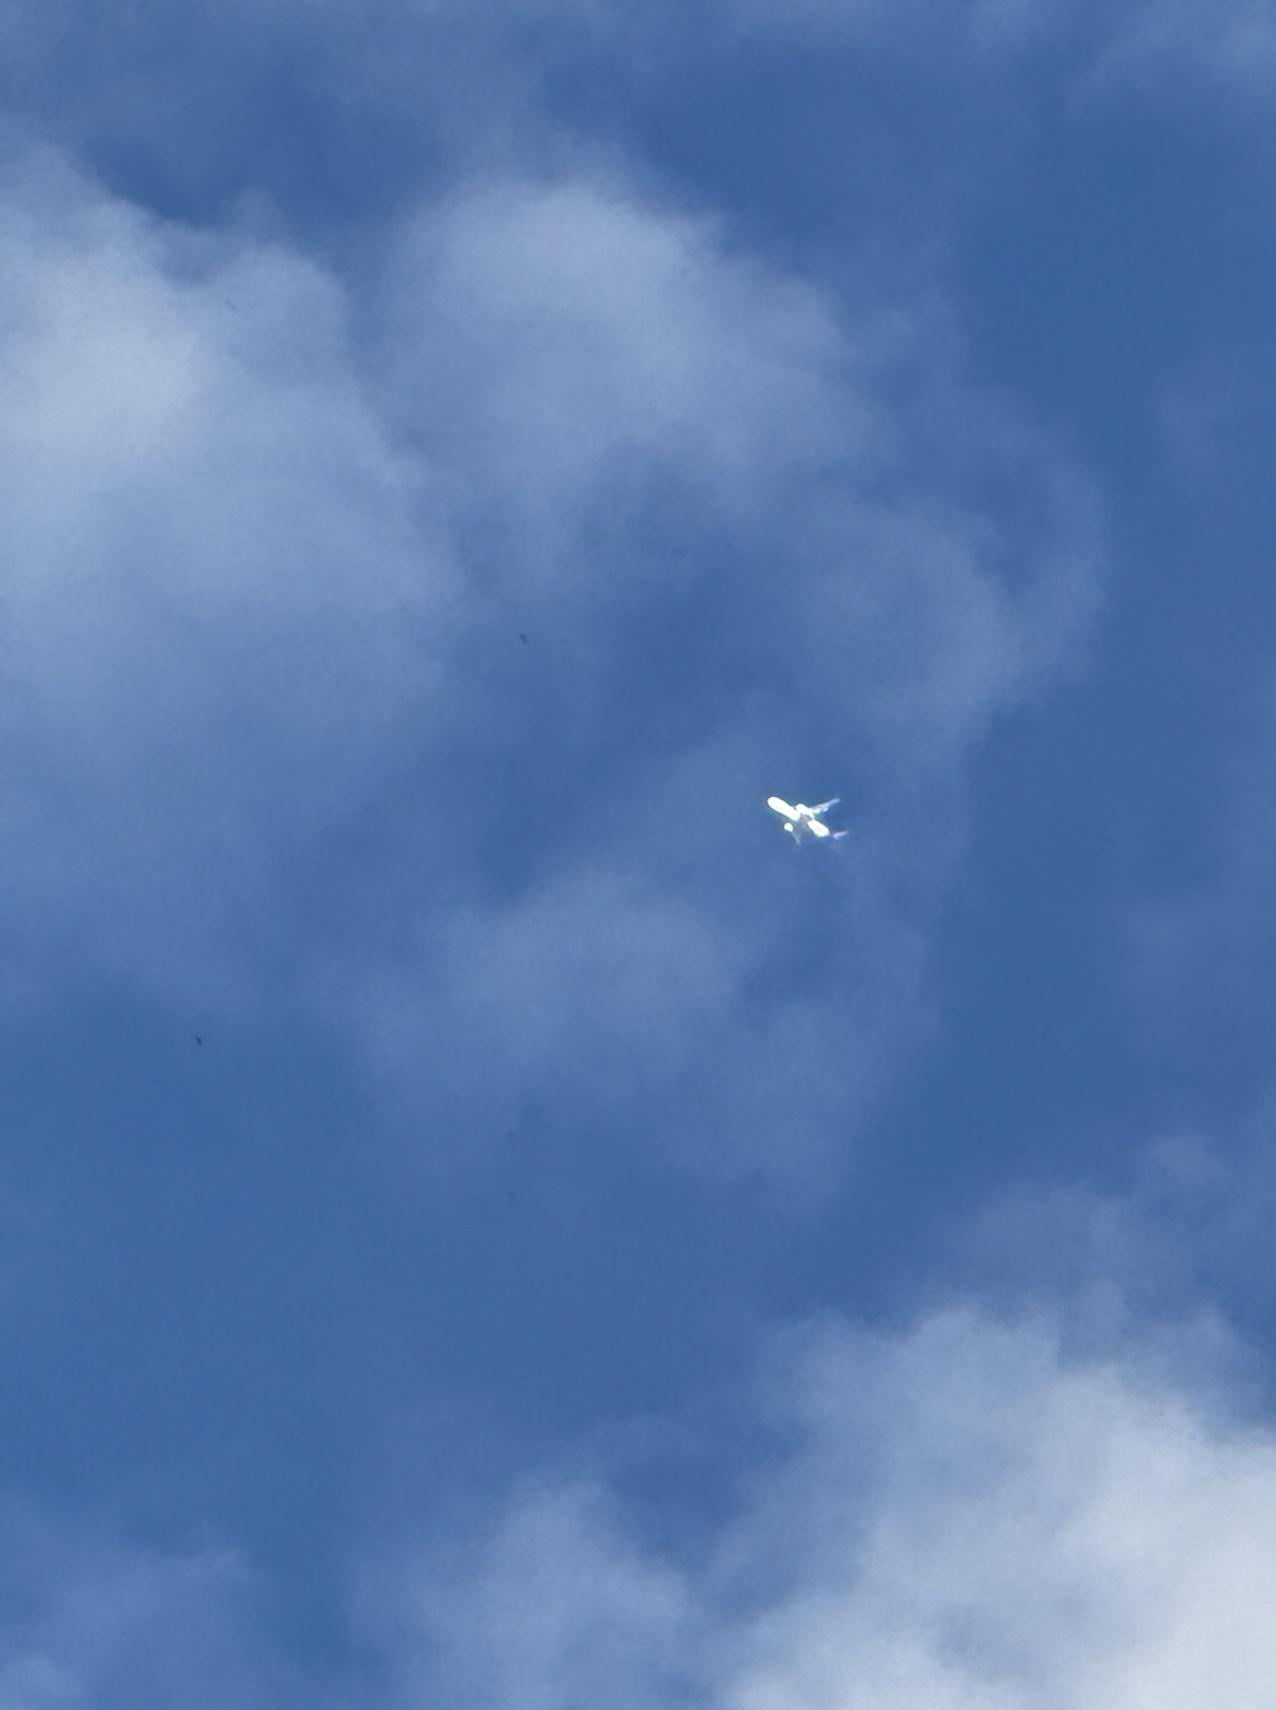Plane: (743, 742, 869, 883)
